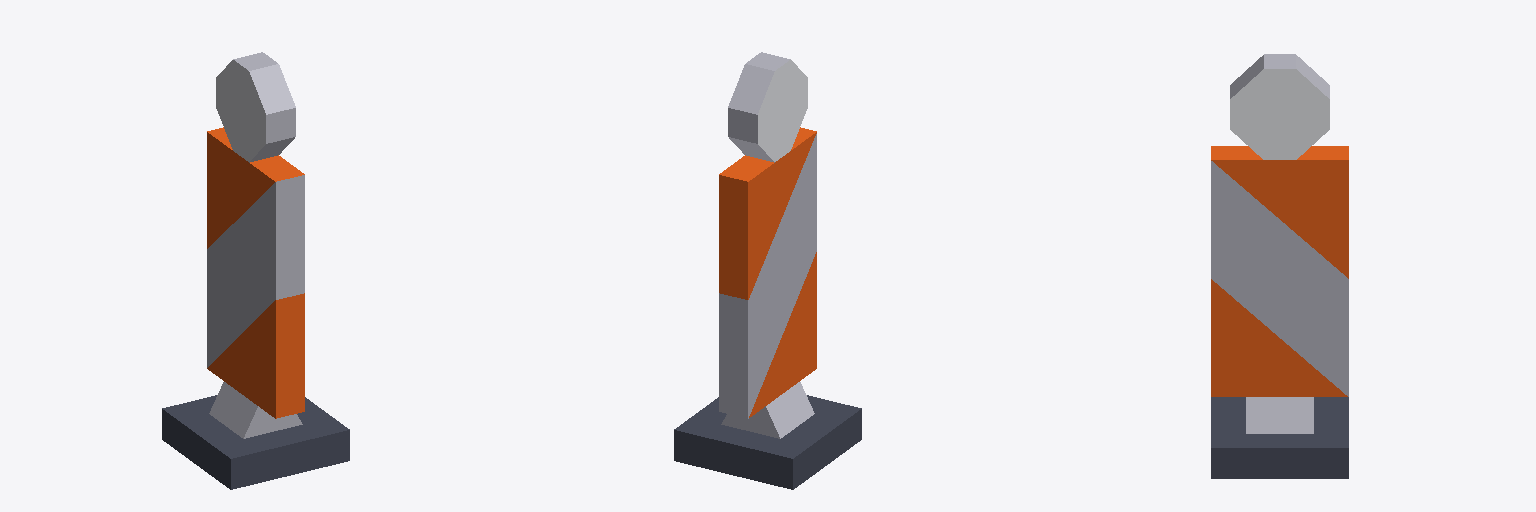
File: construction_light.obj
The picture shows the model from 3 angles: view 1: azimuth 30°, elevation 25°; view 2: azimuth 150°, elevation 25°; view 3: azimuth 270°, elevation 25°; orthographic projection.
Visible parts, largest first — view 1: construction_light; view 2: construction_light; view 3: construction_light.
Part boxes in pixels (bbox=[...]): construction_light: bbox=[162, 52, 349, 489]; construction_light: bbox=[674, 52, 861, 489]; construction_light: bbox=[1211, 54, 1348, 478].
Size of the model in its own units: 0.075 by 0.2338 by 0.075.